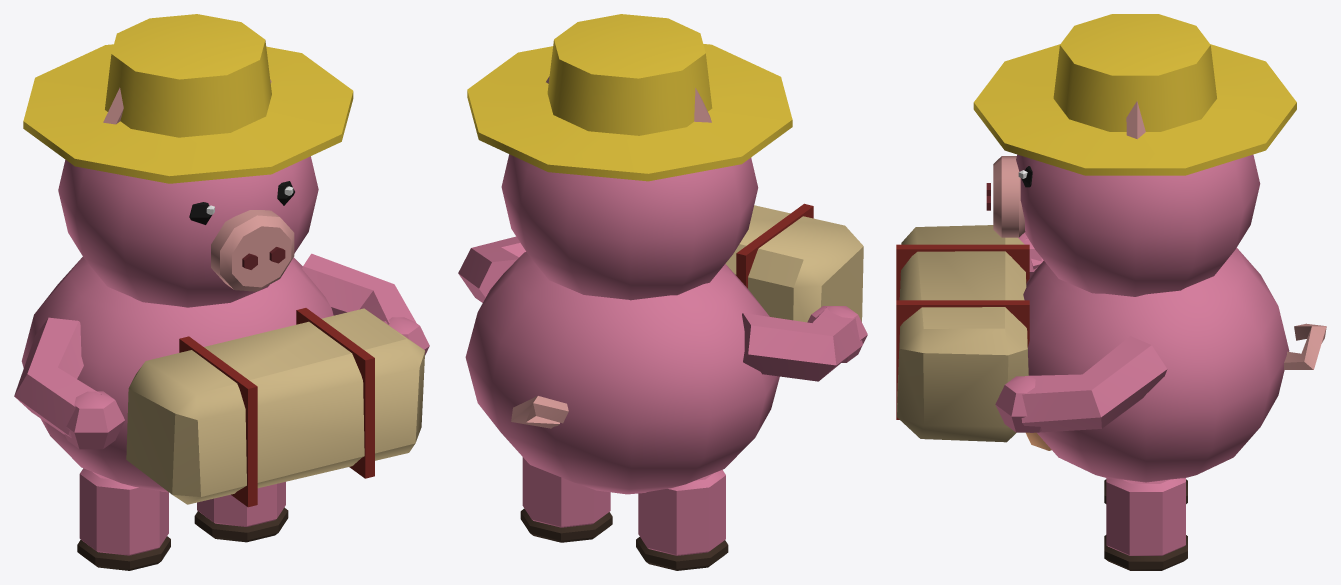
The model's file is 170_cochon_fermier.fbx.
3 renders of one model, left to right at view 1: azimuth 30°, elevation 25°; view 2: azimuth 150°, elevation 25°; view 3: azimuth 270°, elevation 25°, orthographic. The views are drawn at different scales.
Visible parts, largest first — view 1: Accessoire, Corps; view 2: Corps, Accessoire; view 3: Corps, Accessoire.
Boxes of the visible parts, x1,y1,x2,y2 form: Accessoire: [23, 14, 425, 507]; Corps: [14, 80, 429, 570]; Corps: [458, 76, 867, 570]; Accessoire: [467, 14, 863, 322]; Corps: [986, 101, 1326, 570]; Accessoire: [896, 14, 1296, 442].
Bounding box in the file's own units: 0.56 × 0.7 × 0.56.
1 material, 1 textured.
